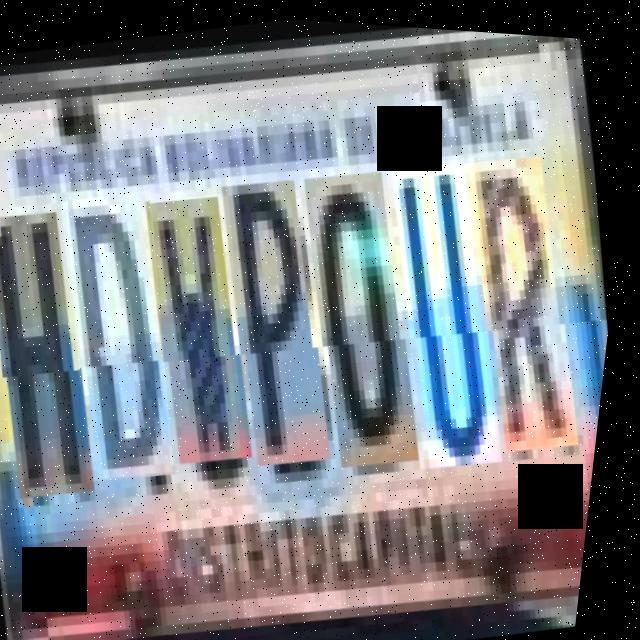D: (46, 184, 209, 486)
H: (0, 203, 127, 504)
O: (286, 156, 452, 468)
P: (205, 166, 362, 467)
R: (451, 138, 610, 448)
U: (373, 146, 535, 466)
W: (132, 185, 283, 467)
